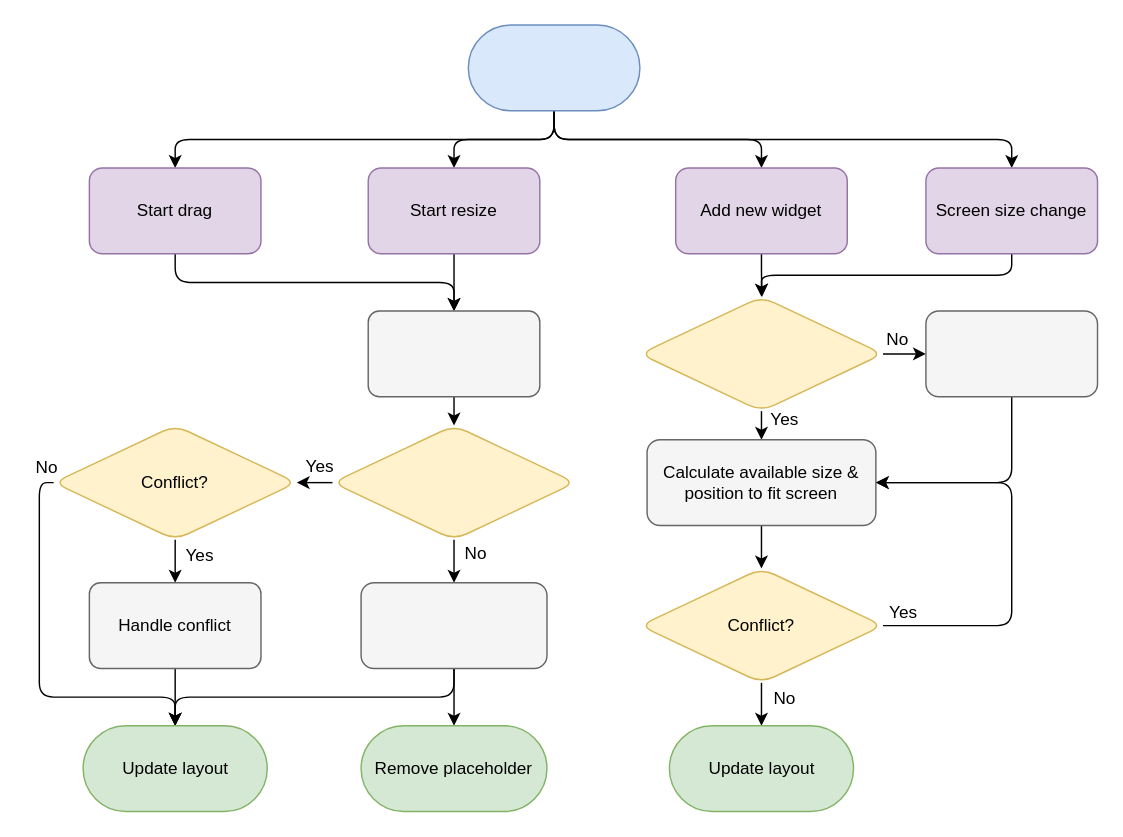
Image size: 1123x837. Some labels were removed from this diagram. The shapes that lost their labels are listed below. From the top down, each one's centre as x and y in pixels, then its label:
(x=553, y=67): Grid Layout
(x=453, y=353): Create placeholder
(x=760, y=353): Has position in other screen size?
(x=1011, y=353): Get widget default size
(x=453, y=482): Is dragging or resizing
(x=453, y=625): Get position / size from place holder
